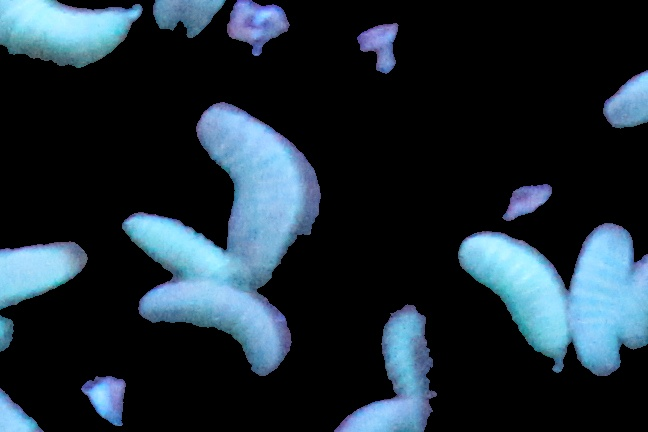larvae: (193, 101, 306, 283), (137, 276, 293, 378), (454, 230, 568, 364), (562, 223, 634, 375), (1, 1, 145, 70), (119, 213, 234, 277), (1, 239, 86, 314), (379, 300, 438, 406), (620, 255, 648, 356)
